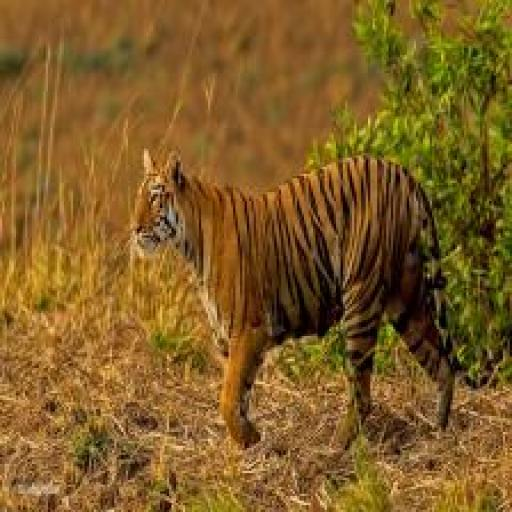Tiger: (124, 128, 500, 479)
